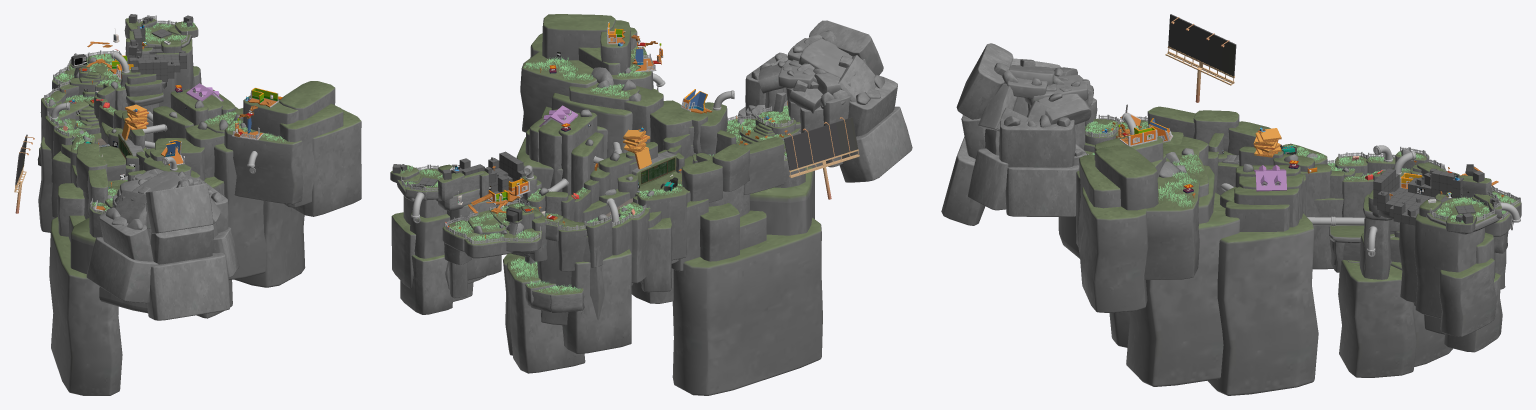
File: l1-tutorial.glb
3 renders of one model, left to right at view 1: azimuth 30°, elevation 25°; view 2: azimuth 150°, elevation 25°; view 3: azimuth 270°, elevation 25°, orthographic. The views are drawn at different scales.
Visible parts, largest first — view 1: NW_L1_Tutorial_Area_v6_Combined(Clone)/Challenge_Ground/Grou (×11), NW_L1_Tutorial_Area_v6_Combined(Clone)/Start_Ground/CaveBase (×9), NW_L1_Tutorial_Area_v6_Combined(Clone)/Start_Ground/Ground/G (×8), NW_L1_Tutorial_Area_v6_Combined(Clone)/A1_Ground/Ground/Grou (×9), NW_L1_Tutorial_Area_v6_Combined(Clone)/A3_Ground/Ground/Grou (×5), NW_L1_Tutorial_Area_v6_Combined(Clone)/A1_Ground/GroundBlock (×3), NW_L1_Tutorial_Area_v6_Combined(Clone)/Billboard_Visual/SM_B, NW_L1_Tutorial_Area_v6_Combined(Clone)/Challenge_Assets/Doll, NW_L1_Tutorial_Area_v6_Combined(Clone)/A1_Assets/Dollhouse/D, NW_L1_Tutorial_Area_v6_Combined(Clone)/Start_Assets/Dollhous; view 2: NW_L1_Tutorial_Area_v6_Combined(Clone)/Start_Ground/Ground/G (×11), NW_L1_Tutorial_Area_v6_Combined(Clone)/A1_Ground/Ground/Grou (×15), NW_L1_Tutorial_Area_v6_Combined(Clone)/Challenge_Ground/Grou (×9), NW_L1_Tutorial_Area_v6_Combined(Clone)/A3_Ground/Ground/Grou (×13), NW_L1_Tutorial_Area_v6_Combined(Clone)/Start_Ground/CaveBase (×11), NW_L1_Tutorial_Area_v6_Combined(Clone)/A1_Ground/GroundBlock (×4), NW_L1_Tutorial_Area_v6_Combined(Clone)/Billboard_Visual/SM_B, NW_L1_Tutorial_Area_v6_Combined(Clone)/Start_Assets/Dollhous, NW_L1_Tutorial_Area_v6_Combined(Clone)/A1_Assets/Blackboard/; view 3: NW_L1_Tutorial_Area_v6_Combined(Clone)/Challenge_Ground/Grou (×8), NW_L1_Tutorial_Area_v6_Combined(Clone)/A1_Ground/GroundBlock (×4), NW_L1_Tutorial_Area_v6_Combined(Clone)/Start_Ground/CaveBase (×11), NW_L1_Tutorial_Area_v6_Combined(Clone)/A3_Ground/Ground/Grou (×8), NW_L1_Tutorial_Area_v6_Combined(Clone)/A1_Ground/Ground/Grou (×7), NW_L1_Tutorial_Area_v6_Combined(Clone)/Start_Ground/Ground/G (×6), NW_L1_Tutorial_Area_v6_Combined(Clone)/Billboard_Visual/SM_B, NW_L1_Tutorial_Area_v6_Combined(Clone)/A1_Assets/Dollhouse/D.
Boxes of the visible parts, x1=… form: NW_L1_Tutorial_Area_v6_Combined(Clone)/Challenge_Ground/Grou (×11): x1=155, y1=81, x2=361, y2=318; NW_L1_Tutorial_Area_v6_Combined(Clone)/Start_Ground/CaveBase (×9): x1=86, y1=171, x2=239, y2=320; NW_L1_Tutorial_Area_v6_Combined(Clone)/Start_Ground/Ground/G (×8): x1=49, y1=151, x2=191, y2=395; NW_L1_Tutorial_Area_v6_Combined(Clone)/A1_Ground/Ground/Grou (×9): x1=38, y1=80, x2=127, y2=232; NW_L1_Tutorial_Area_v6_Combined(Clone)/A3_Ground/Ground/Grou (×5): x1=124, y1=23, x2=193, y2=107; NW_L1_Tutorial_Area_v6_Combined(Clone)/A1_Ground/GroundBlock (×3): x1=153, y1=88, x2=222, y2=142; NW_L1_Tutorial_Area_v6_Combined(Clone)/Billboard_Visual/SM_B: x1=14, y1=134, x2=34, y2=213; NW_L1_Tutorial_Area_v6_Combined(Clone)/Challenge_Assets/Doll: x1=247, y1=87, x2=278, y2=107; NW_L1_Tutorial_Area_v6_Combined(Clone)/A1_Assets/Dollhouse/D: x1=186, y1=83, x2=223, y2=101; NW_L1_Tutorial_Area_v6_Combined(Clone)/Start_Assets/Dollhous: x1=161, y1=140, x2=184, y2=165; NW_L1_Tutorial_Area_v6_Combined(Clone)/Start_Ground/Ground/G (×11): x1=672, y1=102, x2=822, y2=395; NW_L1_Tutorial_Area_v6_Combined(Clone)/A1_Ground/Ground/Grou (×15): x1=503, y1=153, x2=708, y2=373; NW_L1_Tutorial_Area_v6_Combined(Clone)/Challenge_Ground/Grou (×9): x1=520, y1=14, x2=692, y2=158; NW_L1_Tutorial_Area_v6_Combined(Clone)/A3_Ground/Ground/Grou (×13): x1=391, y1=172, x2=547, y2=314; NW_L1_Tutorial_Area_v6_Combined(Clone)/Start_Ground/CaveBase (×11): x1=745, y1=20, x2=912, y2=182; NW_L1_Tutorial_Area_v6_Combined(Clone)/A1_Ground/GroundBlock (×4): x1=516, y1=112, x2=603, y2=195; NW_L1_Tutorial_Area_v6_Combined(Clone)/Billboard_Visual/SM_B: x1=784, y1=117, x2=859, y2=199; NW_L1_Tutorial_Area_v6_Combined(Clone)/Start_Assets/Dollhous: x1=681, y1=89, x2=712, y2=113; NW_L1_Tutorial_Area_v6_Combined(Clone)/A1_Assets/Blackboard/: x1=641, y1=157, x2=675, y2=184; NW_L1_Tutorial_Area_v6_Combined(Clone)/Challenge_Ground/Grou (×8): x1=1078, y1=135, x2=1240, y2=386; NW_L1_Tutorial_Area_v6_Combined(Clone)/A1_Ground/GroundBlock (×4): x1=1207, y1=173, x2=1318, y2=395; NW_L1_Tutorial_Area_v6_Combined(Clone)/Start_Ground/CaveBase (×11): x1=941, y1=43, x2=1091, y2=225; NW_L1_Tutorial_Area_v6_Combined(Clone)/A3_Ground/Ground/Grou (×8): x1=1363, y1=175, x2=1503, y2=352; NW_L1_Tutorial_Area_v6_Combined(Clone)/A1_Ground/Ground/Grou (×7): x1=1239, y1=146, x2=1452, y2=377; NW_L1_Tutorial_Area_v6_Combined(Clone)/Start_Ground/Ground/G (×6): x1=1058, y1=106, x2=1270, y2=347; NW_L1_Tutorial_Area_v6_Combined(Clone)/Billboard_Visual/SM_B: x1=1165, y1=14, x2=1236, y2=102; NW_L1_Tutorial_Area_v6_Combined(Clone)/A1_Assets/Dollhouse/D: x1=1254, y1=165, x2=1286, y2=191.
Size of what is drawn, in the model's own units: 160 by 122 by 211.
Materials: 26 (24 with a texture image).
